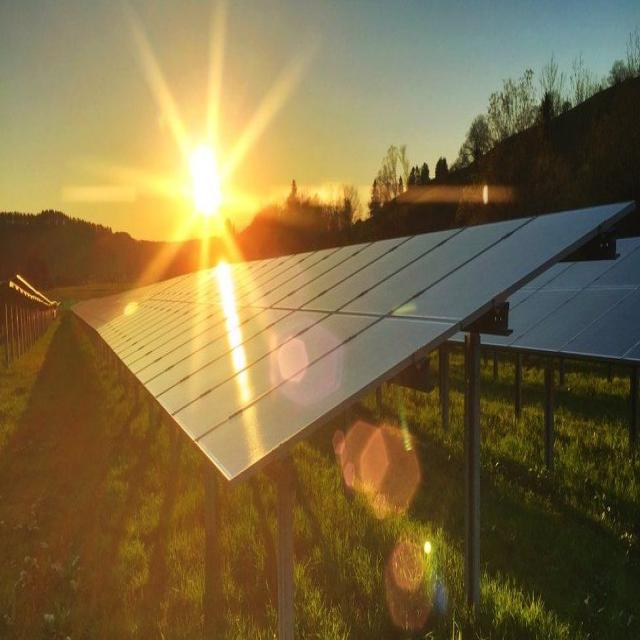clean-solar-panel: (75, 202, 634, 482)
